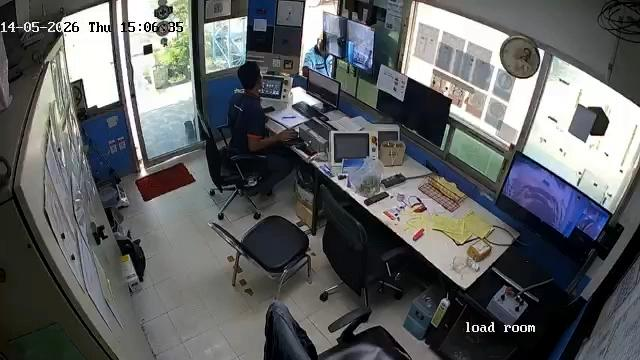Head: (238, 60, 264, 89)
People: (226, 58, 295, 202)
Phone: (263, 106, 276, 113)
